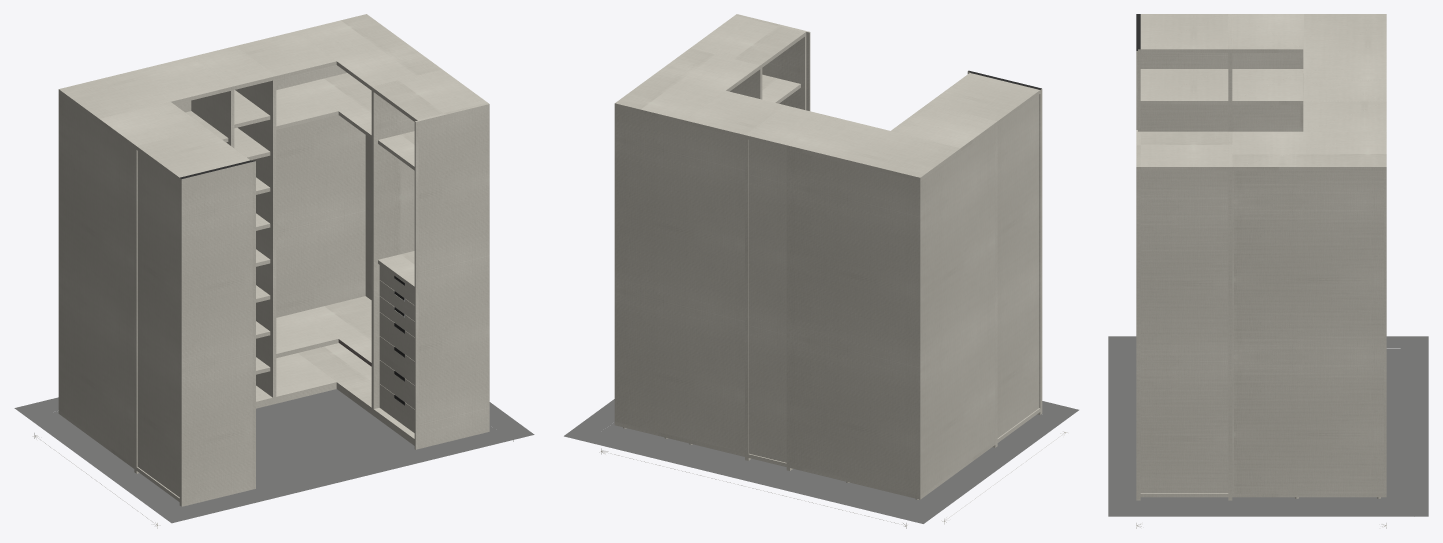
Rendered from C1-D3-PC-Drawers-TI.obj.
3 renders of one model, left to right at view 1: azimuth 30°, elevation 25°; view 2: azimuth 150°, elevation 25°; view 3: azimuth 270°, elevation 25°, orthographic. The views are drawn at different scales.
Parts seen in each view (by area): view 1: Mesh4 C1_D3_PC_DXF1 Model, Mesh26 C1_D3_PC_DXF1 Model, Mesh71 C1_D3_PC_DXF1 Model, Mesh7 C1_D3_PC_DXF1 Model, Mesh109 C1_D3_PC_DXF1 Model, Mesh110 C1_D3_PC_DXF1 Model, Mesh64 C1_D3_PC_DXF1 Model, Mesh87 C1_D3_PC_DXF1 Model, Mesh78 C1_D3_PC_DXF1 Model, Mesh77 C1_D3_PC_DXF1 Model, Mesh86 C1_D3_PC_DXF1 Model, Mesh108 C1_D3_PC_DXF1 Model (+3 smaller); view 2: Mesh26 C1_D3_PC_DXF1 Model, Mesh71 C1_D3_PC_DXF1 Model, Mesh4 C1_D3_PC_DXF1 Model, Mesh7 C1_D3_PC_DXF1 Model, Mesh53 C1_D3_PC_DXF1 Model, Mesh110 C1_D3_PC_DXF1 Model, Mesh109 C1_D3_PC_DXF1 Model, Mesh19 C1_D3_PC_DXF1 Model, Mesh98 C1_D3_PC_DXF1 Model; view 3: Mesh71 C1_D3_PC_DXF1 Model, Mesh4 C1_D3_PC_DXF1 Model, Mesh97 C1_D3_PC_DXF1 Model, Mesh110 C1_D3_PC_DXF1 Model, Mesh109 C1_D3_PC_DXF1 Model, Mesh7 C1_D3_PC_DXF1 Model, Mesh11 C1_D3_PC_DXF1 Model, Mesh26 C1_D3_PC_DXF1 Model, Mesh32 C1_D3_PC_DXF1 Model, Mesh64 C1_D3_PC_DXF1 Model.
Boxes of the visible parts, left/top/right/bottom form: Mesh4 C1_D3_PC_DXF1 Model: left=58, top=14, right=489, bottom=506; Mesh26 C1_D3_PC_DXF1 Model: left=58, top=93, right=191, bottom=464; Mesh71 C1_D3_PC_DXF1 Model: left=276, top=65, right=371, bottom=357; Mesh7 C1_D3_PC_DXF1 Model: left=137, top=151, right=179, bottom=496; Mesh109 C1_D3_PC_DXF1 Model: left=52, top=389, right=496, bottom=507; Mesh110 C1_D3_PC_DXF1 Model: left=14, top=397, right=534, bottom=523; Mesh64 C1_D3_PC_DXF1 Model: left=276, top=343, right=371, bottom=406; Mesh87 C1_D3_PC_DXF1 Model: left=302, top=296, right=371, bottom=366; Mesh78 C1_D3_PC_DXF1 Model: left=302, top=73, right=371, bottom=138; Mesh77 C1_D3_PC_DXF1 Model: left=276, top=84, right=338, bottom=129; Mesh86 C1_D3_PC_DXF1 Model: left=276, top=312, right=338, bottom=357; Mesh108 C1_D3_PC_DXF1 Model: left=256, top=382, right=414, bottom=445; Mesh26 C1_D3_PC_DXF1 Model: left=790, top=127, right=995, bottom=495; Mesh71 C1_D3_PC_DXF1 Model: left=614, top=107, right=744, bottom=453; Mesh4 C1_D3_PC_DXF1 Model: left=614, top=14, right=1042, bottom=470; Mesh7 C1_D3_PC_DXF1 Model: left=997, top=95, right=1039, bottom=437; Mesh53 C1_D3_PC_DXF1 Model: left=749, top=140, right=786, bottom=462; Mesh110 C1_D3_PC_DXF1 Model: left=564, top=399, right=1078, bottom=523; Mesh109 C1_D3_PC_DXF1 Model: left=601, top=414, right=1041, bottom=508; Mesh19 C1_D3_PC_DXF1 Model: left=790, top=441, right=995, bottom=499; Mesh98 C1_D3_PC_DXF1 Model: left=762, top=74, right=800, bottom=103; Mesh71 C1_D3_PC_DXF1 Model: left=1232, top=170, right=1386, bottom=493; Mesh4 C1_D3_PC_DXF1 Model: left=1136, top=14, right=1386, bottom=500; Mesh97 C1_D3_PC_DXF1 Model: left=1140, top=170, right=1228, bottom=492; Mesh110 C1_D3_PC_DXF1 Model: left=1108, top=336, right=1428, bottom=516; Mesh109 C1_D3_PC_DXF1 Model: left=1136, top=348, right=1400, bottom=504; Mesh7 C1_D3_PC_DXF1 Model: left=1140, top=53, right=1228, bottom=131; Mesh11 C1_D3_PC_DXF1 Model: left=1140, top=69, right=1228, bottom=104; Mesh26 C1_D3_PC_DXF1 Model: left=1232, top=53, right=1303, bottom=131; Mesh32 C1_D3_PC_DXF1 Model: left=1232, top=69, right=1303, bottom=104; Mesh64 C1_D3_PC_DXF1 Model: left=1232, top=493, right=1386, bottom=497.
Size of the model in its own units: 121 by 109 by 90.
